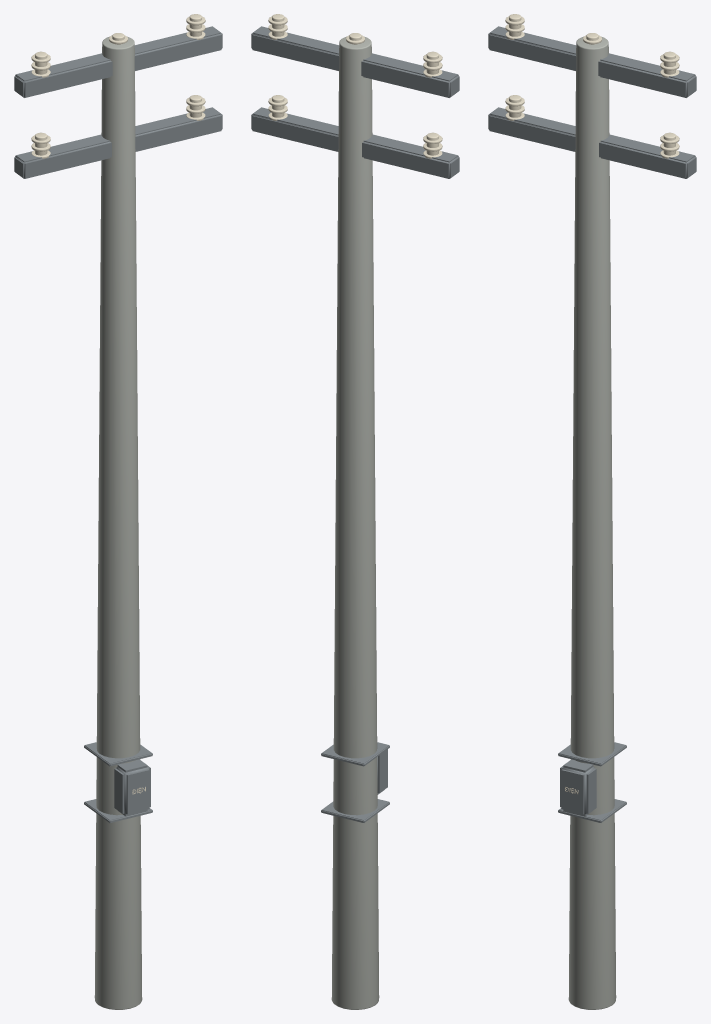
File: UtilityPole.glb
3 renders of one model, left to right at view 1: azimuth 30°, elevation 25°; view 2: azimuth 150°, elevation 25°; view 3: azimuth 330°, elevation 25°, orthographic.
Visible parts, largest first — view 1: ST_Concrete_Pole.001, ST_UtilityPole_PBK_Indochine_metal.001, ST_UtilityPole_ST_cream.001; view 2: ST_Concrete_Pole.001, ST_UtilityPole_PBK_Indochine_metal.001, ST_UtilityPole_ST_cream.001; view 3: ST_Concrete_Pole.001, ST_UtilityPole_PBK_Indochine_metal.001, ST_UtilityPole_ST_cream.001.
Boxes of the visible parts, <box> form: ST_Concrete_Pole.001: <box>94,36,142,1009</box>; ST_UtilityPole_PBK_Indochine_metal.001: <box>14,26,222,822</box>; ST_UtilityPole_ST_cream.001: <box>31,14,205,794</box>; ST_Concrete_Pole.001: <box>331,36,379,1009</box>; ST_UtilityPole_PBK_Indochine_metal.001: <box>251,26,459,822</box>; ST_UtilityPole_ST_cream.001: <box>268,14,442,158</box>; ST_Concrete_Pole.001: <box>568,36,616,1009</box>; ST_UtilityPole_PBK_Indochine_metal.001: <box>488,26,696,822</box>; ST_UtilityPole_ST_cream.001: <box>505,14,679,794</box>.
Size of the model in its own units: 1.55 by 7.15 by 0.4555.
